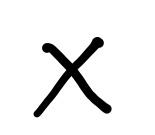mult: (33, 37, 113, 118)
